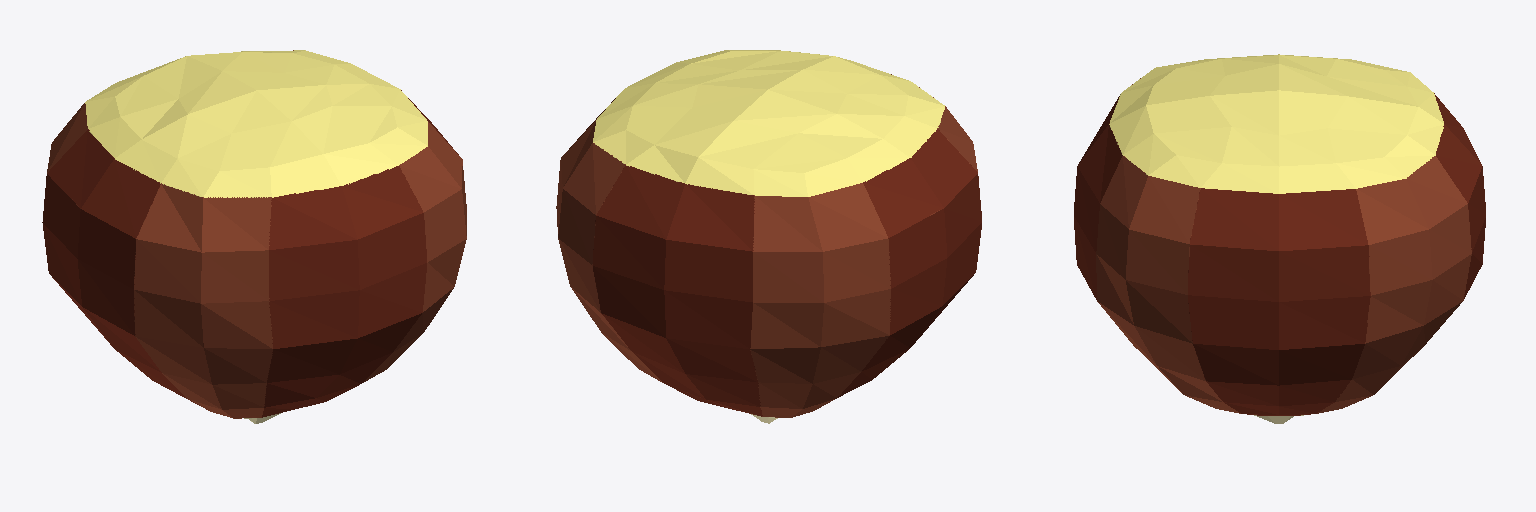
3 renders of one model, left to right at view 1: azimuth 30°, elevation 25°; view 2: azimuth 150°, elevation 25°; view 3: azimuth 270°, elevation 25°, orthographic.
Parts seen in each view (by area): view 1: castanay_Cube.044; view 2: castanay_Cube.044; view 3: castanay_Cube.044.
Boxes of the visible parts, box(x1,y1,x2,y2) form: castanay_Cube.044: box(42, 50, 466, 423); castanay_Cube.044: box(556, 50, 981, 423); castanay_Cube.044: box(1074, 54, 1485, 423).
Size of the model in its own units: 11.73 by 10.39 by 11.72.
Materials: 1 (1 with a texture image).